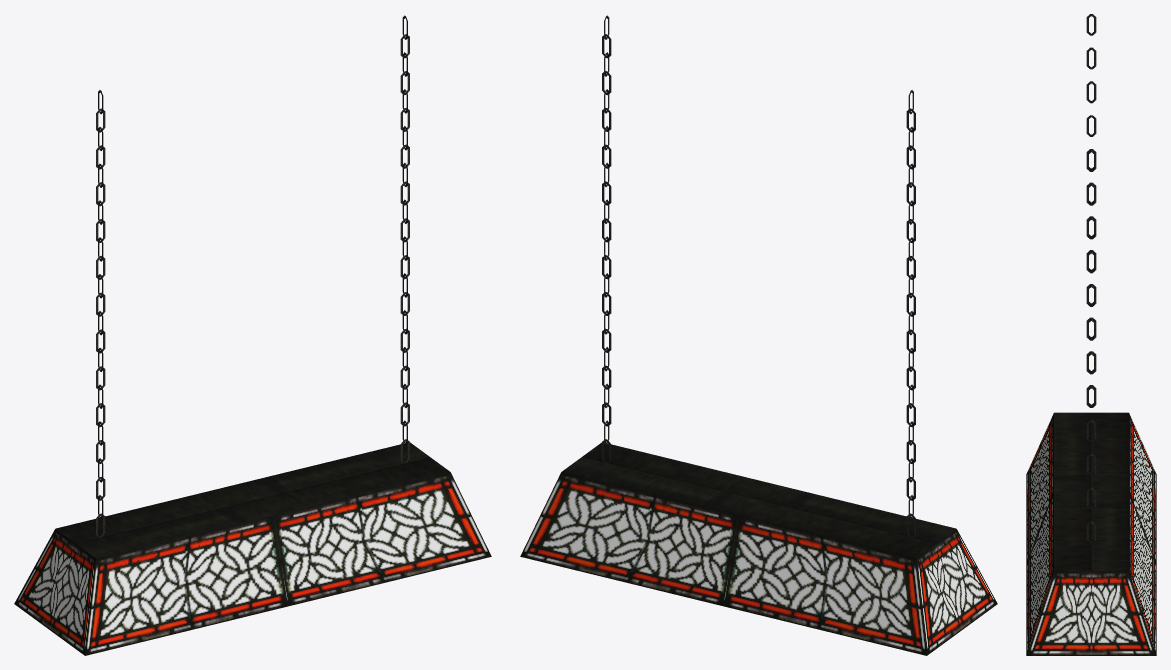
Rendered from lamp.obj.
The picture shows the model from 3 angles, left to right: view 1: azimuth 30°, elevation 25°; view 2: azimuth 150°, elevation 25°; view 3: azimuth 270°, elevation 25°; orthographic projection. The views are drawn at different scales.
Visible parts, largest first — view 1: FluorescentLight_03; view 2: FluorescentLight_03; view 3: FluorescentLight_03.
Boxes of the visible parts, x1,y1,x2,y2 form: FluorescentLight_03: (14, 15, 491, 655); FluorescentLight_03: (520, 15, 997, 655); FluorescentLight_03: (1026, 14, 1156, 655).
Size of the model in its own units: 1.47 by 1.82 by 0.4433.
Materials: 1 (1 with a texture image).
